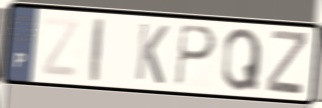I: (89, 15, 106, 85)
K: (132, 20, 171, 87)
P: (173, 22, 219, 89)
Q: (220, 26, 264, 94)
Z: (264, 28, 311, 99), (39, 14, 83, 81)
